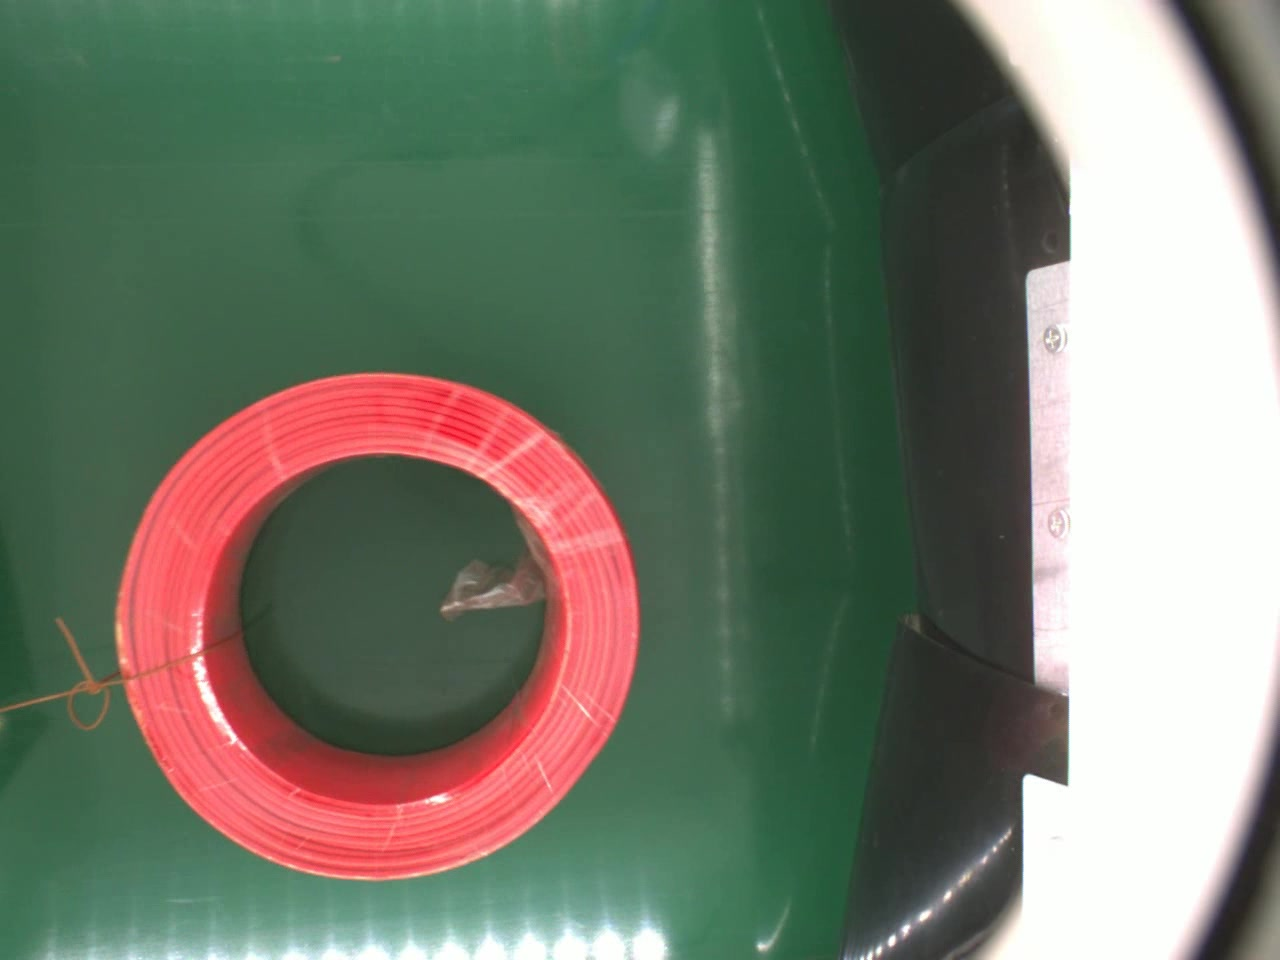red: (113, 363, 656, 886)
